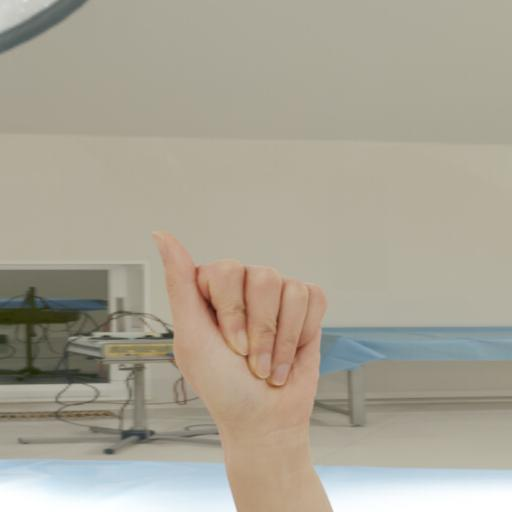A: (145, 228, 335, 440)
